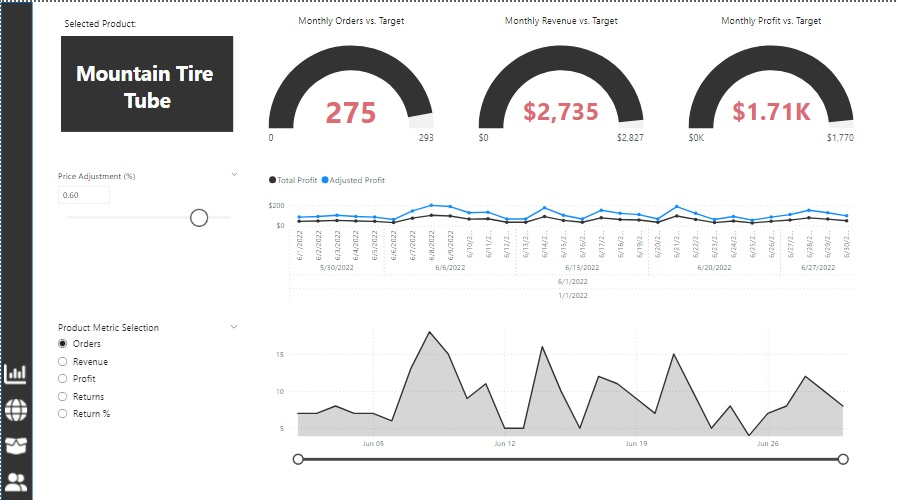

Layout of this report page (visuals, bound fields, positions):
{"tool":"powerbi","page":{"name":"Product Detail","canvas":[1280,720],"ordinal":2},"visuals":[{"type":"shape","box":[0,0,45,720],"z":0},{"type":"actionButton","box":[0,511.2,44.6,40.3],"z":0,"group":"g1"},{"type":"gauge","title":"Monthly Orders vs. Target","fields":{"Y":["Measure Table.Total Orders"],"MaxValue":["Measure Table.Order Target"]},"box":[377.8,16.6,246.3,218],"z":1000},{"type":"actionButton","box":[1.4,563,44.6,40.3],"z":1000,"group":"g1"},{"type":"gauge","title":"Monthly Revenue vs. Target","fields":{"Y":["Measure Table.Total Revenue"],"MaxValue":["Measure Table.Revenue Target"]},"box":[677.5,16.6,246.3,218],"z":2000},{"type":"actionButton","box":[1.4,613.4,44.6,40.3],"z":2000,"group":"g1"},{"type":"gauge","title":"Monthly Profit vs. Target","fields":{"Y":["Measure Table.Total Profit"],"MaxValue":["Measure Table.Profit Target"]},"box":[977.1,16.6,246.3,218],"z":3000},{"type":"actionButton","box":[1.4,665.3,44.6,40.3],"z":3000,"group":"g1"},{"type":"lineChart","title":"Profit Trending","fields":{"Category":["Calendar Lookup.Date Hierarchy.Start of Year","Calendar Lookup.Date Hierarchy.Start of Month","Calendar Lookup.Date Hierarchy.Start of Week","Calendar Lookup.Date Hierarchy.Date"],"Y":["Measure Table.Total Profit","Measure Table.Adjusted Profit"]},"box":[377.3,234.7,846.7,207.4],"z":4000},{"type":"areaChart","title":"Returns Trending","fields":{"Category":["Calendar Lookup.Date Hierarchy.Start of Year","Calendar Lookup.Date Hierarchy.Start of Month","Calendar Lookup.Date Hierarchy.Start of Week","Calendar Lookup.Date Hierarchy.Date"],"Y":["Measure Table.Total Orders"]},"box":[387.4,456.5,836.6,207.4],"z":5000},{"type":"card","fields":{"Values":["Min(Product Lookup.ProductName)"]},"box":[86.4,49,246.2,136.8],"z":6000},{"type":"textbox","box":[86.4,17.3,146.9,31.7],"z":7000},{"type":"group","id":"g1","title":"Navigation Buttons","box":[0,511.2,46.1,194.4],"z":8000},{"type":"slicer","fields":{"Values":["Price Adjustment (%).Price Adjustment (%)"]},"box":[69.1,234.7,282.2,125.3],"z":8001},{"type":"slicer","fields":{"Values":["Product Metric Selection.Product Metric Selection"]},"box":[69.1,450.7,282.2,182.9],"z":8002}]}

Visuals, with their boxes on the page's 1280x720 design canvas (x1, y1, x2, y2). These are canvas units, not pixel positions in the 897x500 screenshot, which may show the page scaled, cropped or inside an application window:
shape: [0, 0, 45, 720]
actionButton: [0, 511, 45, 552]
"Monthly Orders vs. Target" gauge: [378, 17, 624, 235]
actionButton: [1, 563, 46, 603]
"Monthly Revenue vs. Target" gauge: [678, 17, 924, 235]
actionButton: [1, 613, 46, 654]
"Monthly Profit vs. Target" gauge: [977, 17, 1223, 235]
actionButton: [1, 665, 46, 706]
"Profit Trending" lineChart: [377, 235, 1224, 442]
"Returns Trending" areaChart: [387, 456, 1224, 664]
card - Min(Product Lookup.ProductName): [86, 49, 333, 186]
textbox: [86, 17, 233, 49]
"Navigation Buttons" group: [0, 511, 46, 706]
slicer - Price Adjustment (%).Price Adjustment (%): [69, 235, 351, 360]
slicer - Product Metric Selection.Product Metric Selection: [69, 451, 351, 634]
